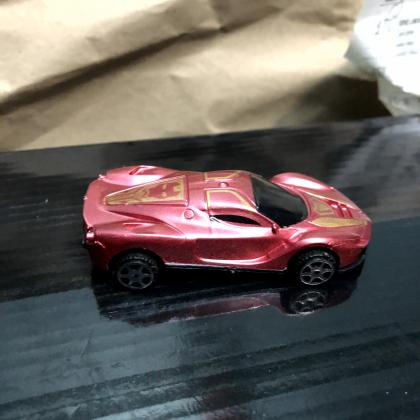Car: (81, 164, 371, 291)
